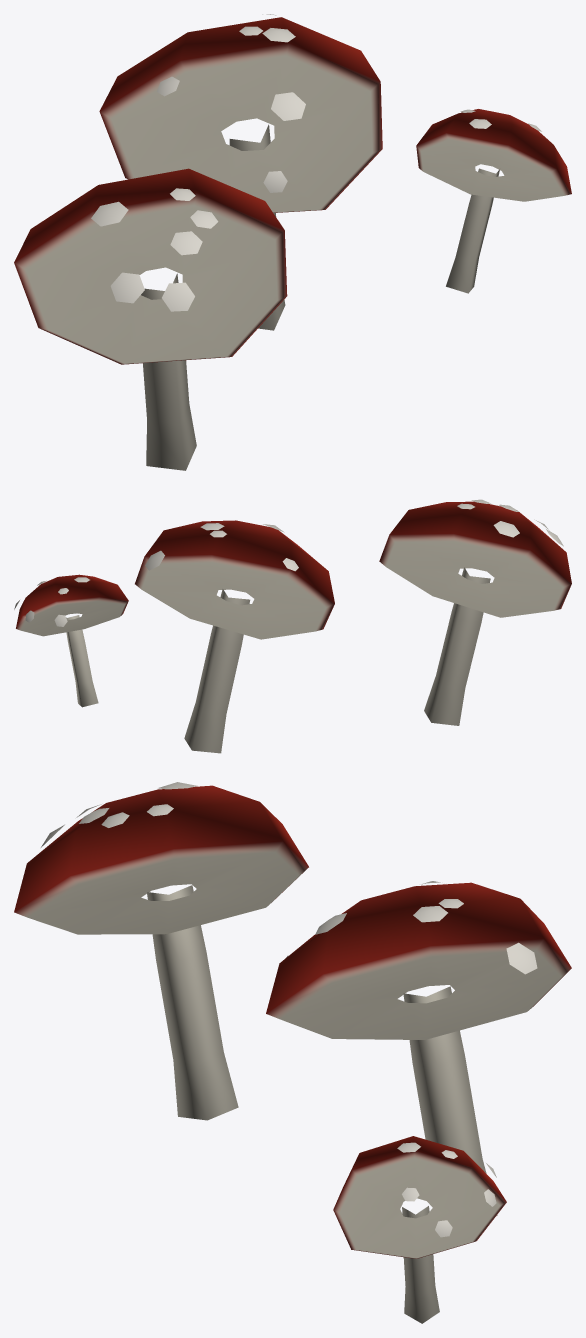
The model's file is mushroom-fly-agaric-a.lod1.glb.
The picture shows the model from 3 angles, top to bottom: view 1: azimuth 30°, elevation 25°; view 2: azimuth 150°, elevation 25°; view 3: azimuth 270°, elevation 25°; orthographic projection. The views are drawn at different scales.
Parts seen in each view (by area): view 1: mushroom-fly-agaric-a.lod1; view 2: mushroom-fly-agaric-a.lod1; view 3: mushroom-fly-agaric-a.lod1.
Part boxes in pixels (x1,y1,x2,y2): mushroom-fly-agaric-a.lod1: [14, 14, 571, 470]; mushroom-fly-agaric-a.lod1: [14, 499, 571, 753]; mushroom-fly-agaric-a.lod1: [14, 782, 571, 1323].
Bounding box in the file's own units: 0.3481 × 0.1577 × 0.2518.
